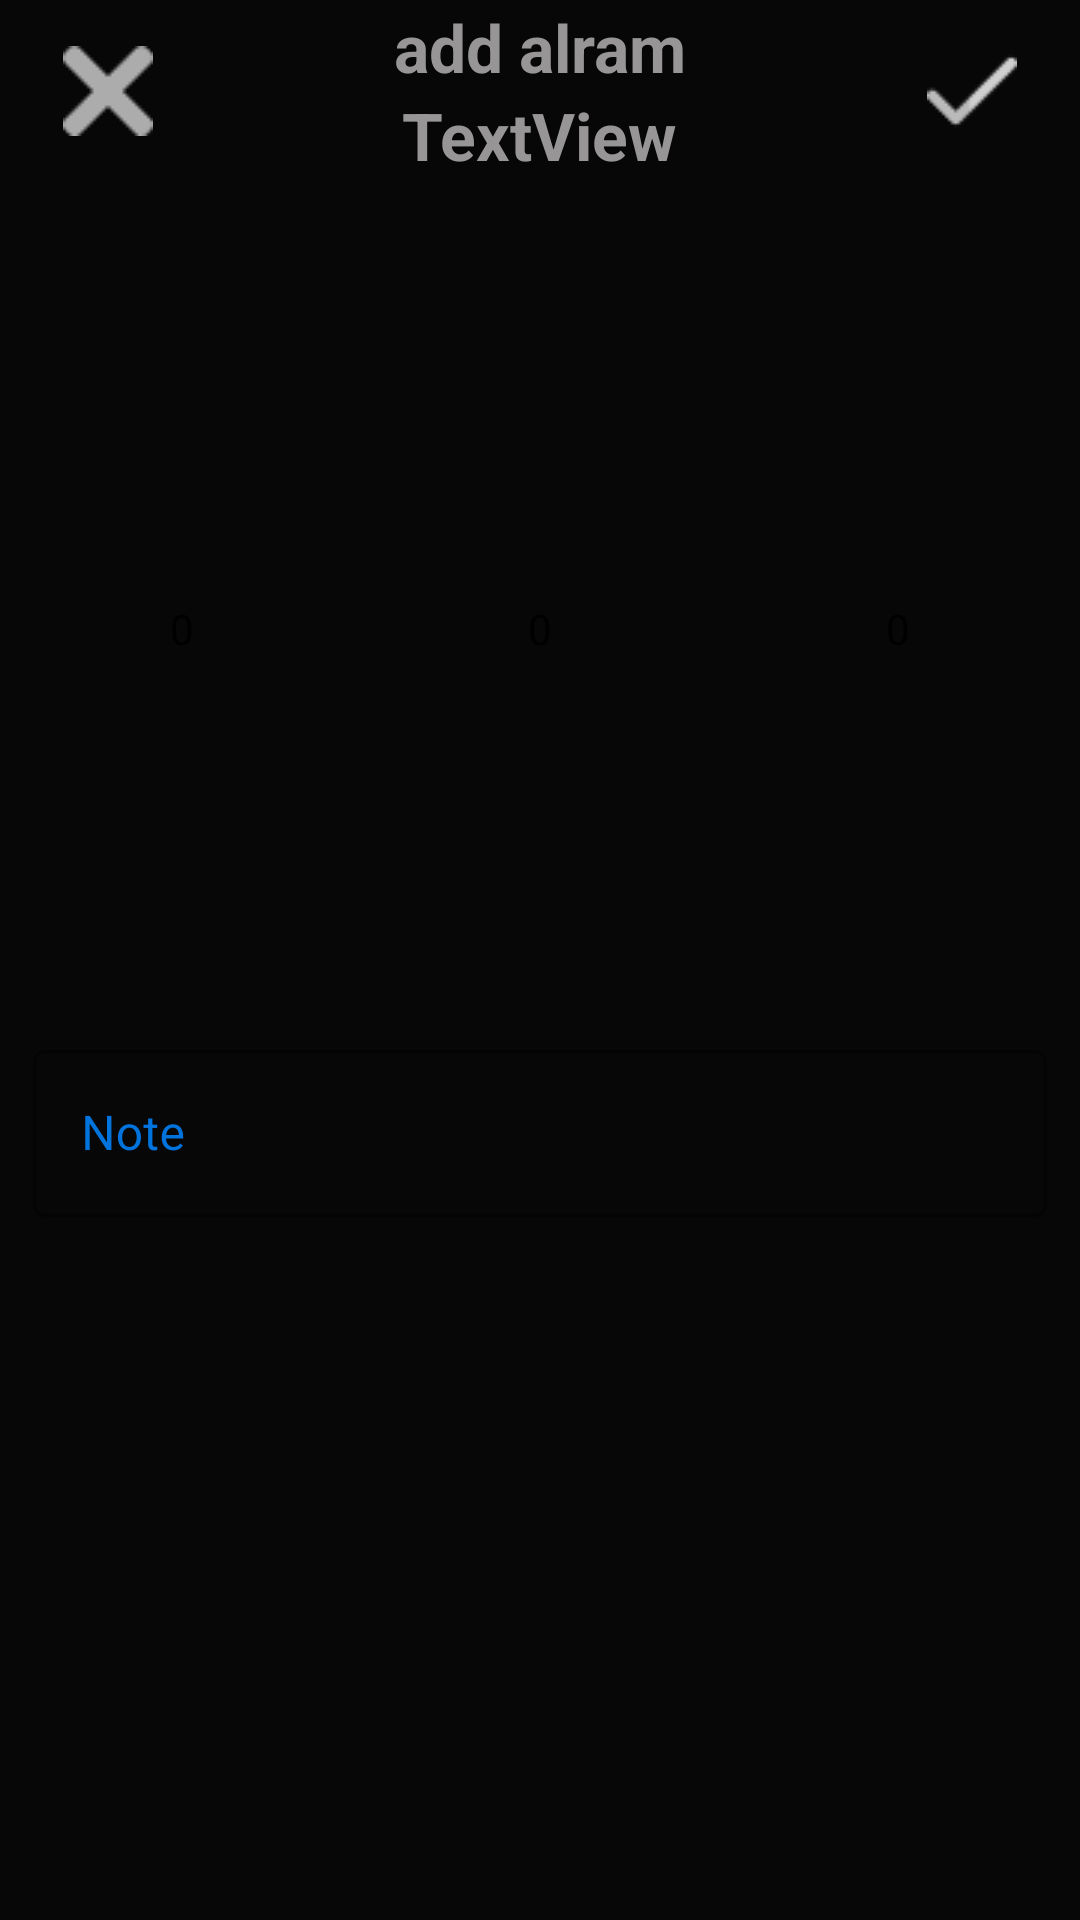

Where icons sit on this 1080px×1920px app screen, as (x1, y1, x2, y2):
close: (63, 46, 153, 136)
save: (927, 57, 1017, 125)
